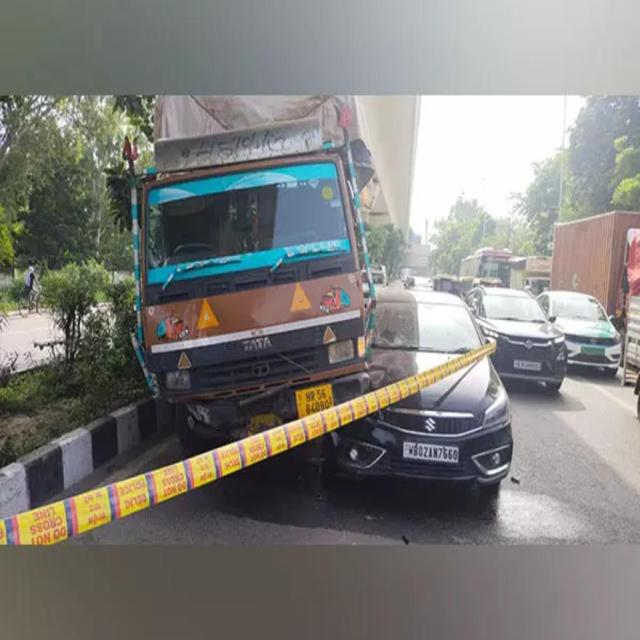accident: (132, 96, 374, 453), (335, 282, 485, 402)
car: (329, 358, 512, 491), (468, 287, 566, 392), (539, 291, 621, 374)
